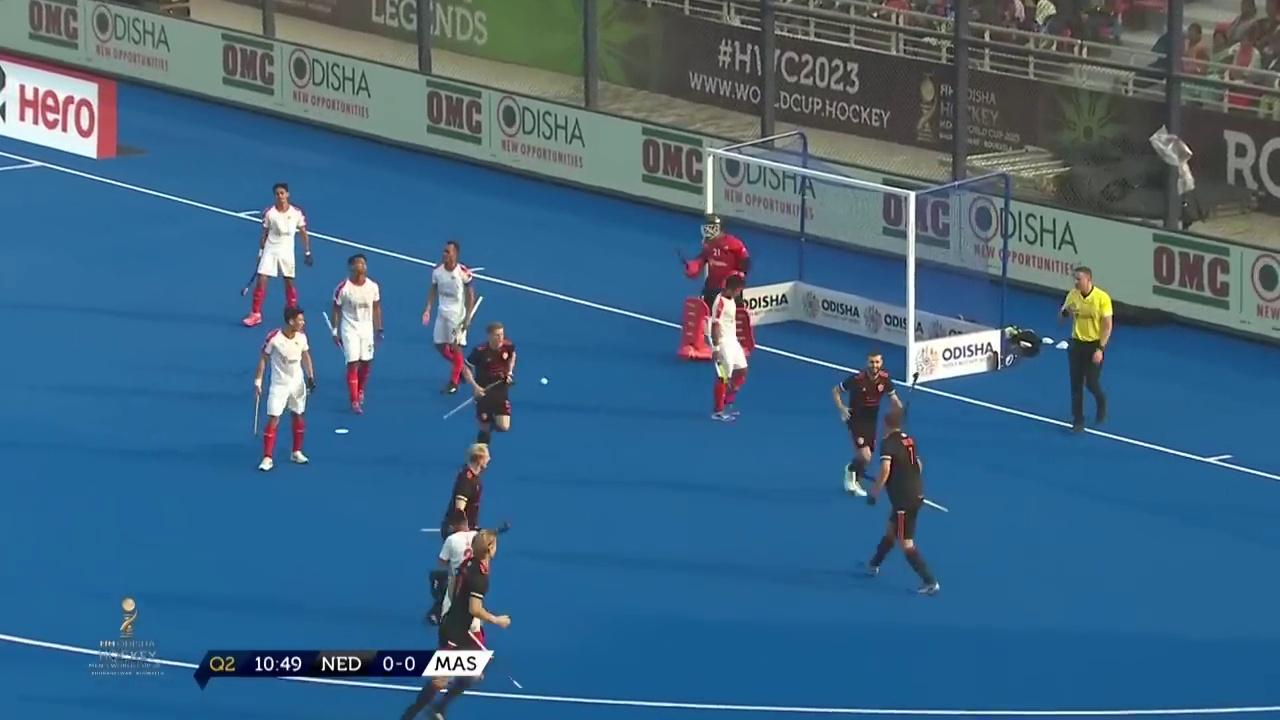ball: (533, 369, 556, 392)
